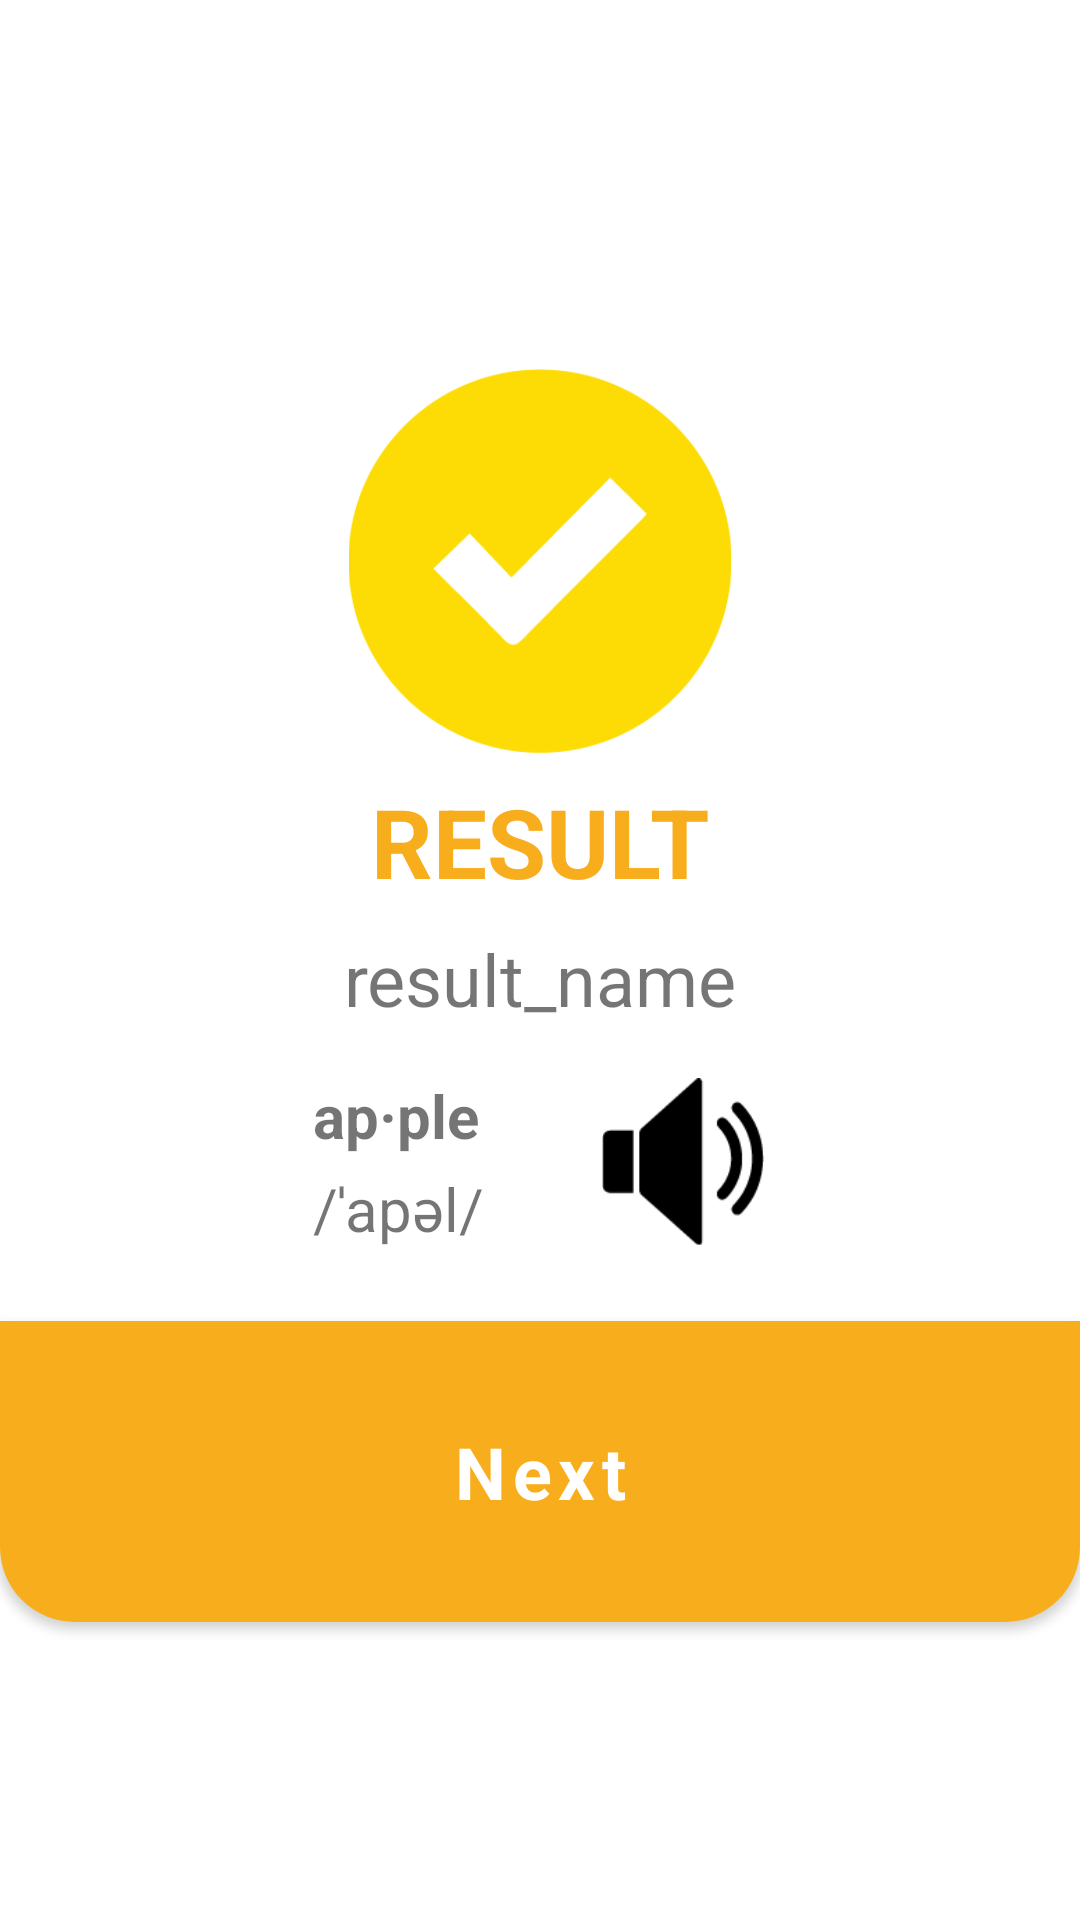

Screen size 1080 × 1920. Icon name, then its box in pixels as region(x1, y1, x2, y2):
find voice: region(602, 1078, 764, 1245)
